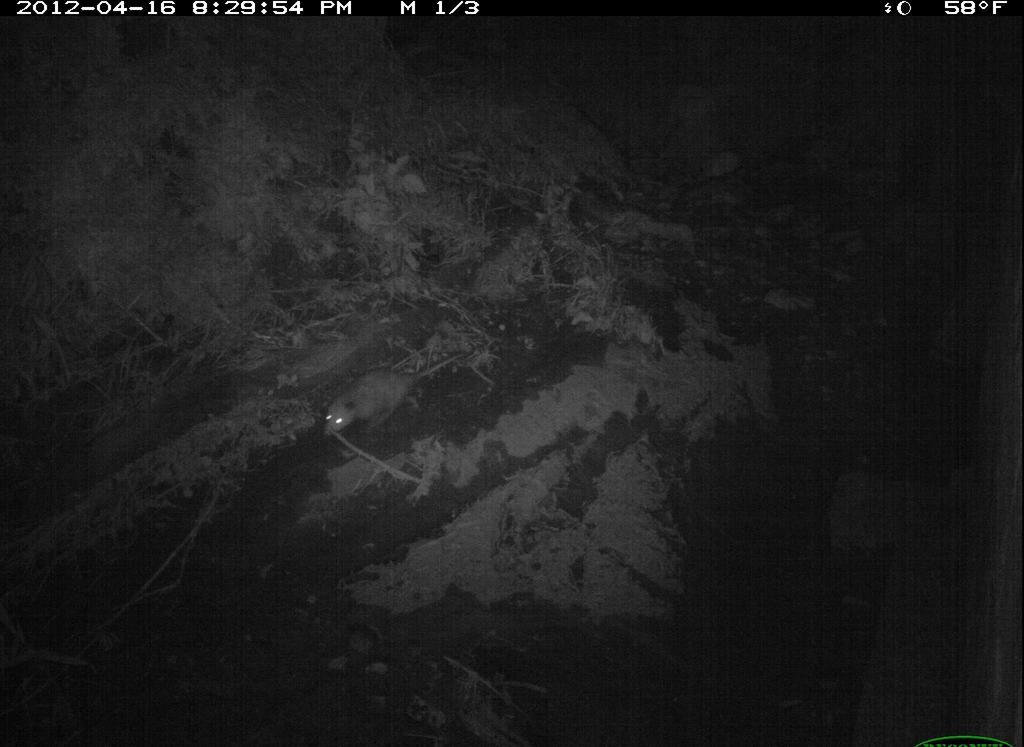opossum: (315, 342, 486, 441)
